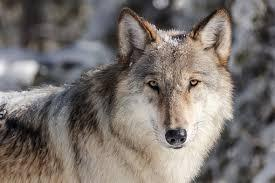Wolf: (0, 5, 236, 183)
